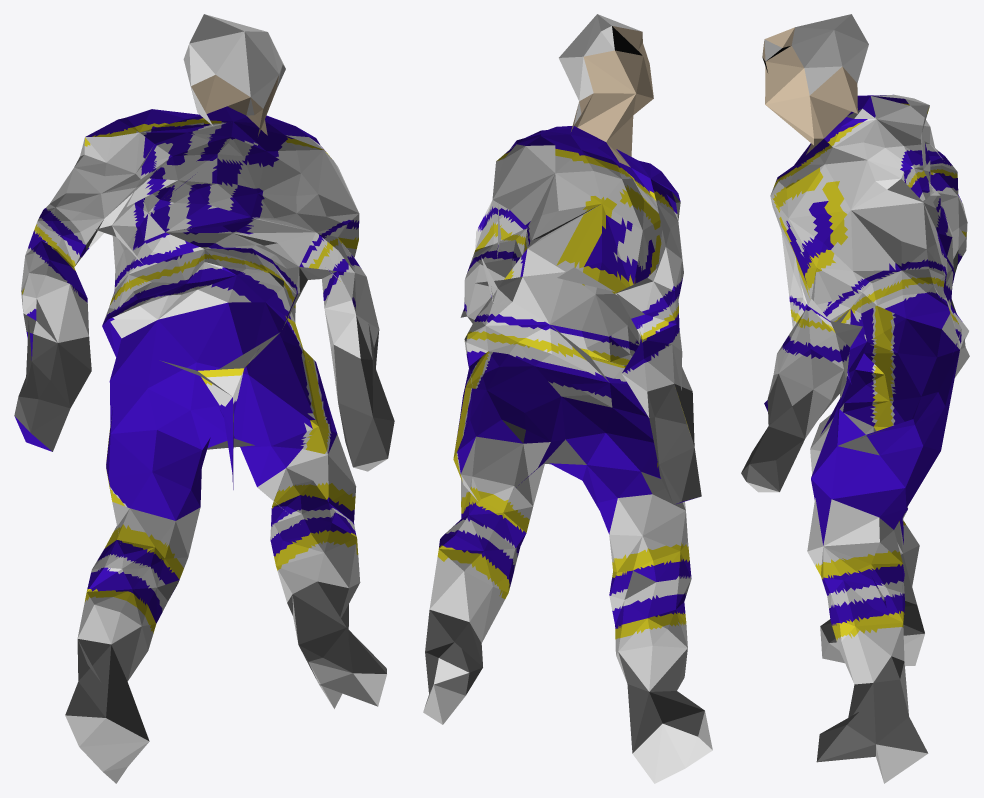
Rendered from nhl96pc_buffalo_player_clean.glb.
3 views of the same model, side by side, from view 1: azimuth 30°, elevation 25°; view 2: azimuth 150°, elevation 25°; view 3: azimuth 270°, elevation 25° (orthographic). The views are drawn at different scales.
Visible parts, largest first — view 1: geometry_0; view 2: geometry_0; view 3: geometry_0.
Part boxes in pixels (x1,y1,x2,y2): geometry_0: (14, 14, 394, 783); geometry_0: (423, 14, 712, 783); geometry_0: (741, 14, 969, 783).
Bounding box in the file's own units: 26.26 × 58.57 × 17.31.
